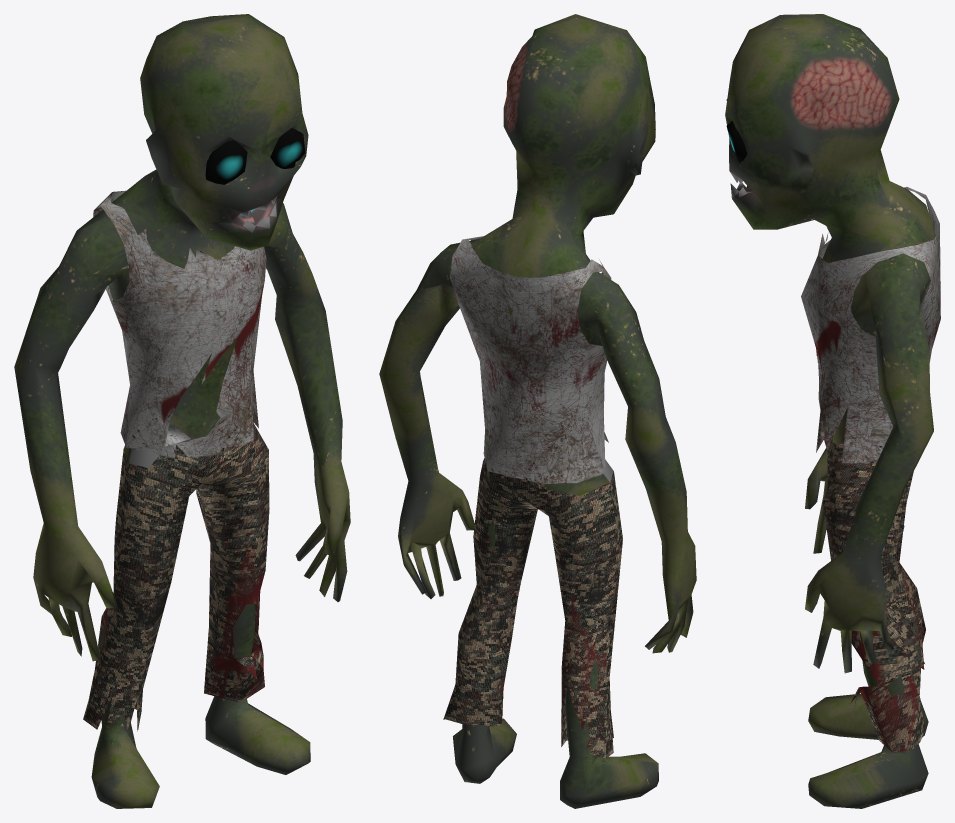
File: zombie2.obj
The picture shows the model from 3 angles, left to right: view 1: azimuth 30°, elevation 25°; view 2: azimuth 150°, elevation 25°; view 3: azimuth 270°, elevation 25°; orthographic projection. The views are drawn at different scales.
Visible parts, largest first — view 1: uploads_files_1005291_zombie_full; view 2: uploads_files_1005291_zombie_full; view 3: uploads_files_1005291_zombie_full.
Boxes of the visible parts, box(x1,y1,x2,y2) form: uploads_files_1005291_zombie_full: box(14, 14, 350, 808); uploads_files_1005291_zombie_full: box(379, 14, 696, 808); uploads_files_1005291_zombie_full: box(725, 14, 940, 808).
Size of the model in its own units: 1.18 by 2.84 by 0.7489.
2 materials, 2 textured.
